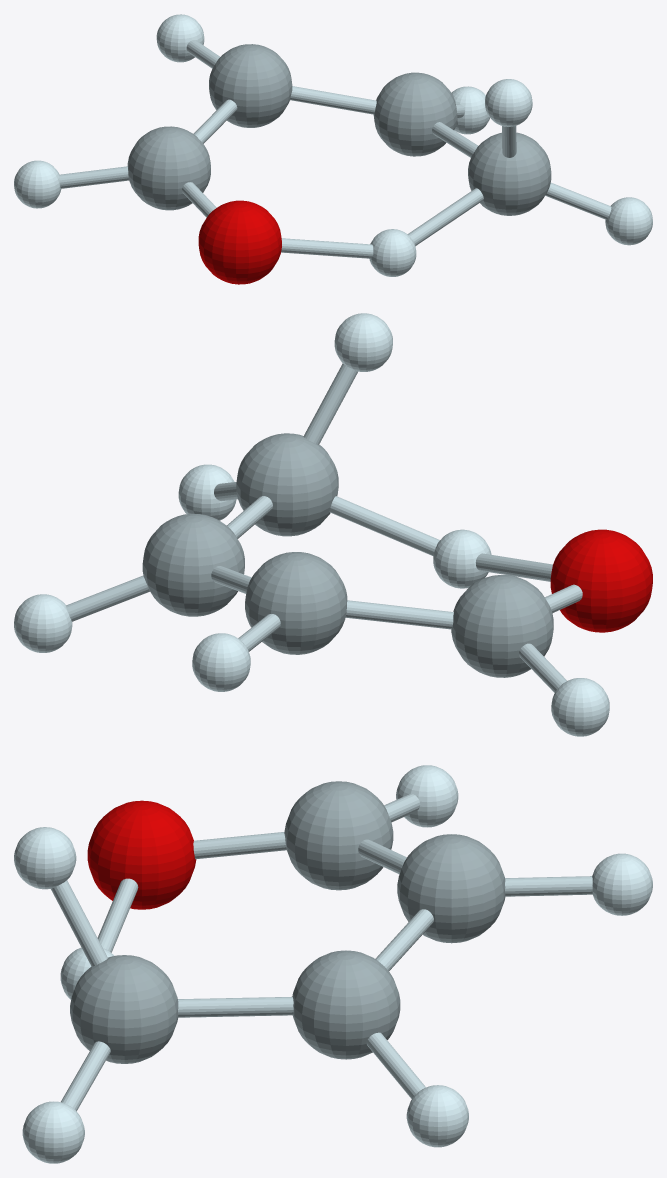
Rendered from irc_050.glb.
3 views of the same model, one above another, from view 1: azimuth 30°, elevation 25°; view 2: azimuth 150°, elevation 25°; view 3: azimuth 270°, elevation 25° (orthographic). The views are drawn at different scales.
Parts seen in each view (by area): view 1: Renderer Node; view 2: Renderer Node; view 3: Renderer Node.
Boxes of the visible parts, bbox=[...] form: Renderer Node: bbox=[14, 14, 652, 284]; Renderer Node: bbox=[14, 313, 652, 736]; Renderer Node: bbox=[14, 765, 652, 1163].
Size of the model in its own units: 4.7 by 1.79 by 4.09.
